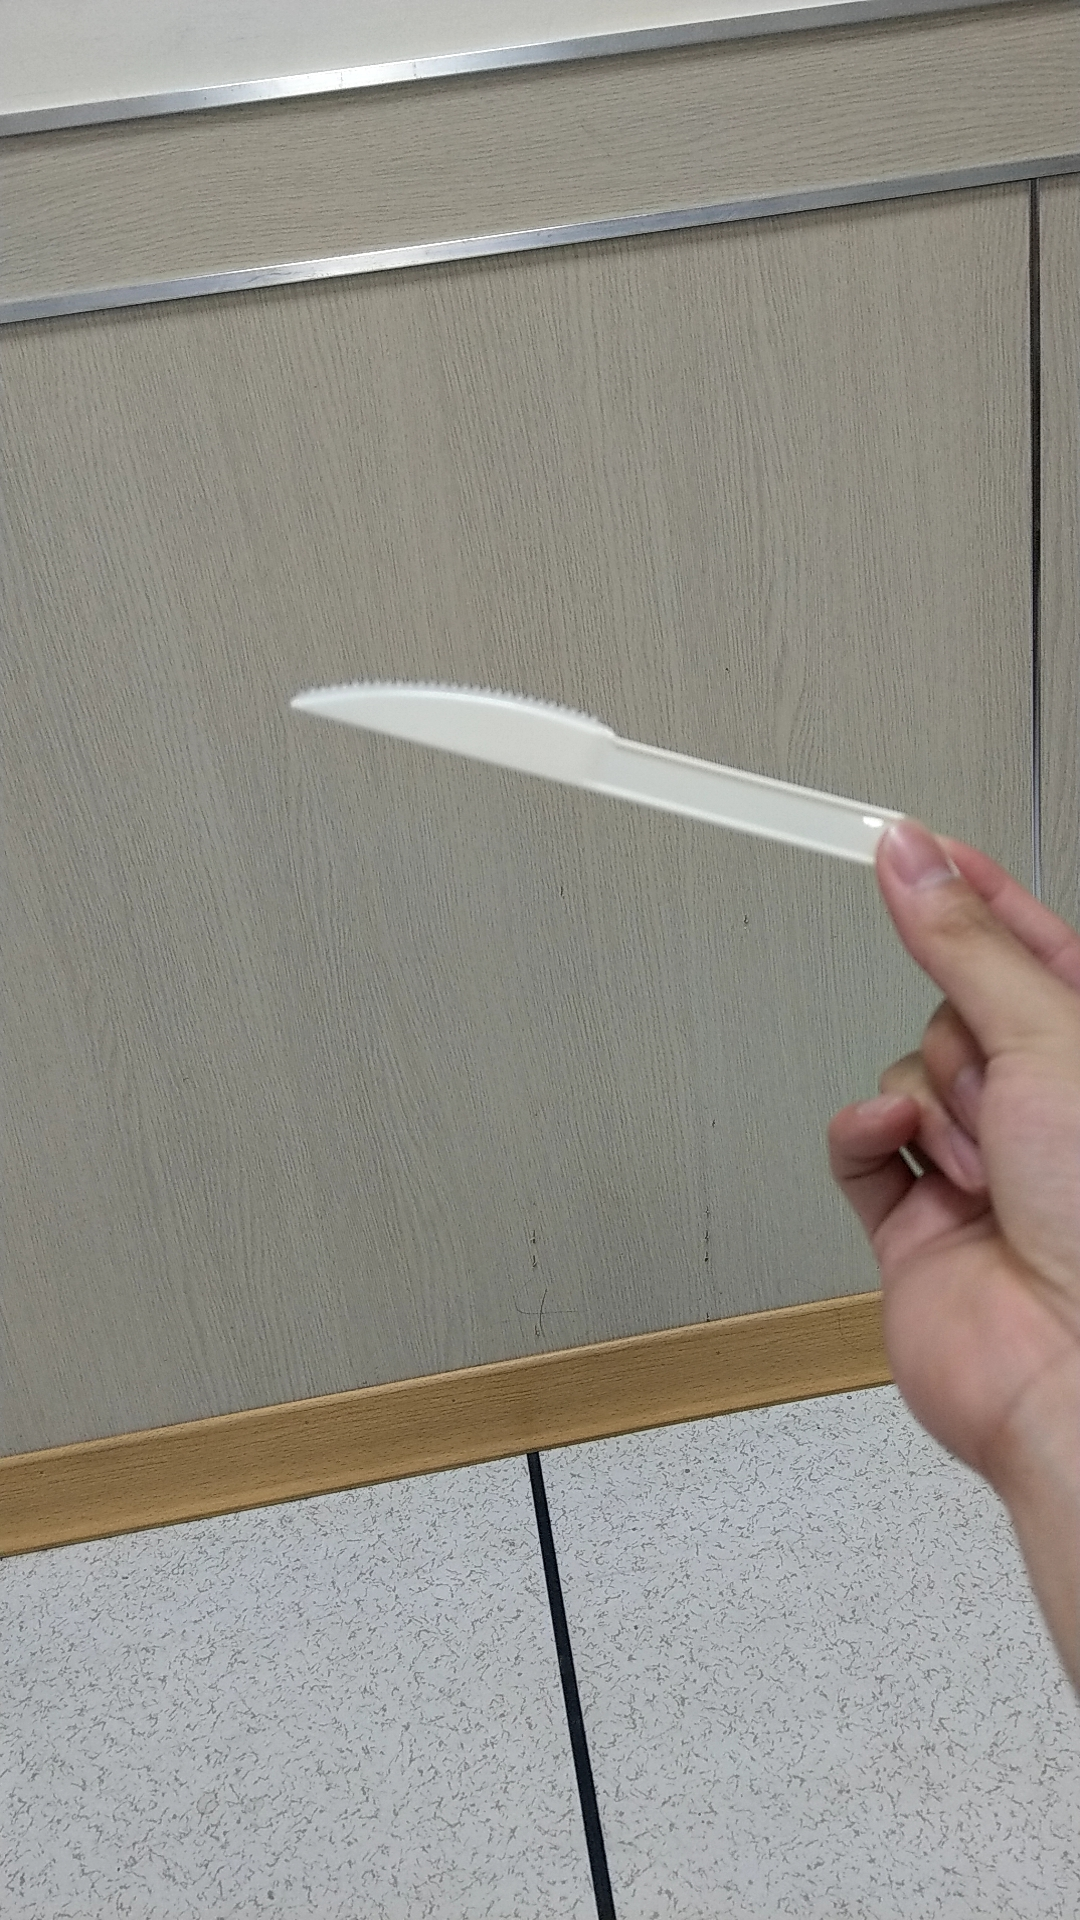knife: (297, 622, 897, 880)
